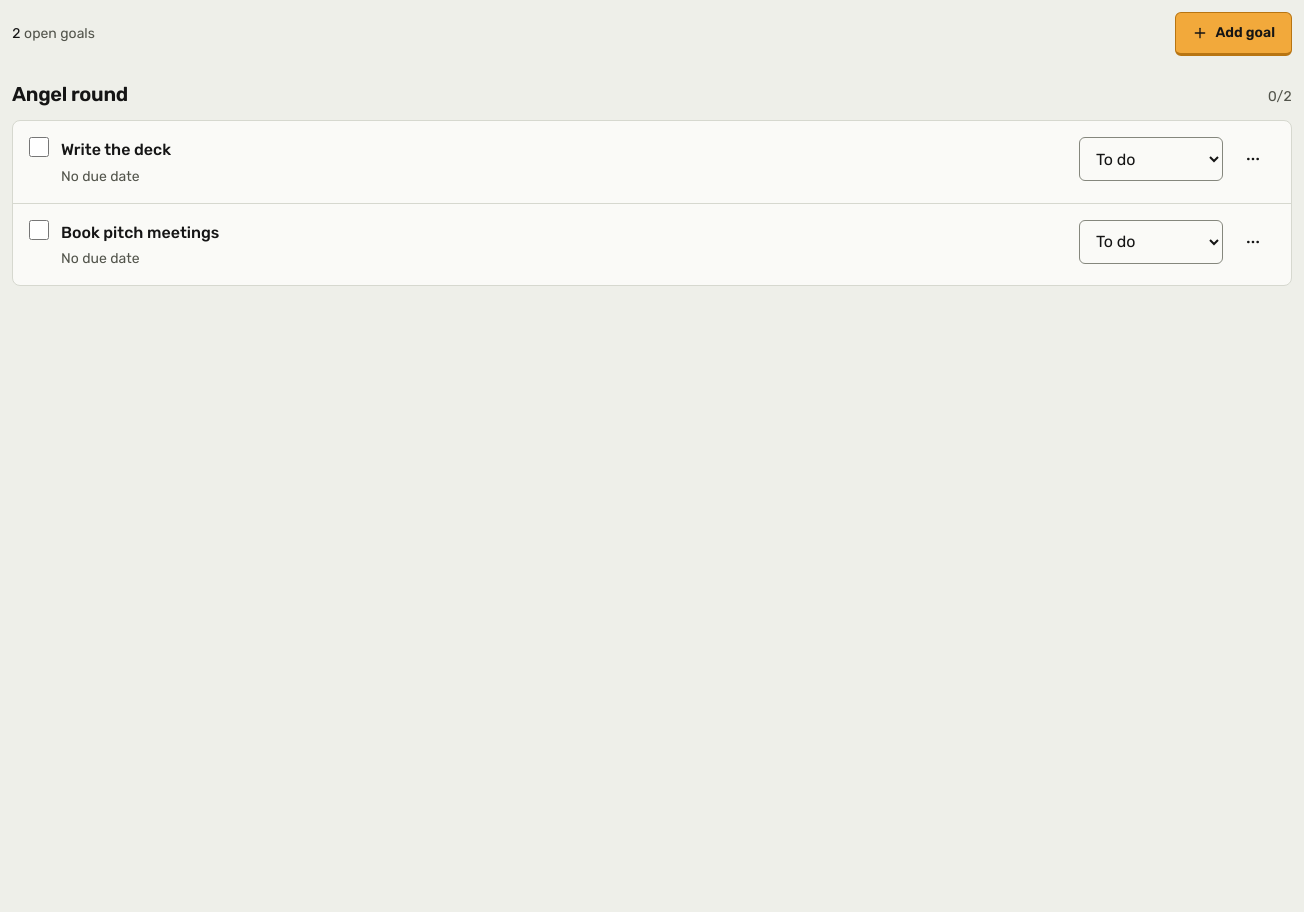
it: GoalList milestone cheer › cheers when the status select marks the last goal done
Select "Done" in the dropdown named "Status of Write the deck" in the row of "Write the deck". click: (1151, 159)
box: x1=1079 y1=137 x2=1223 y2=181
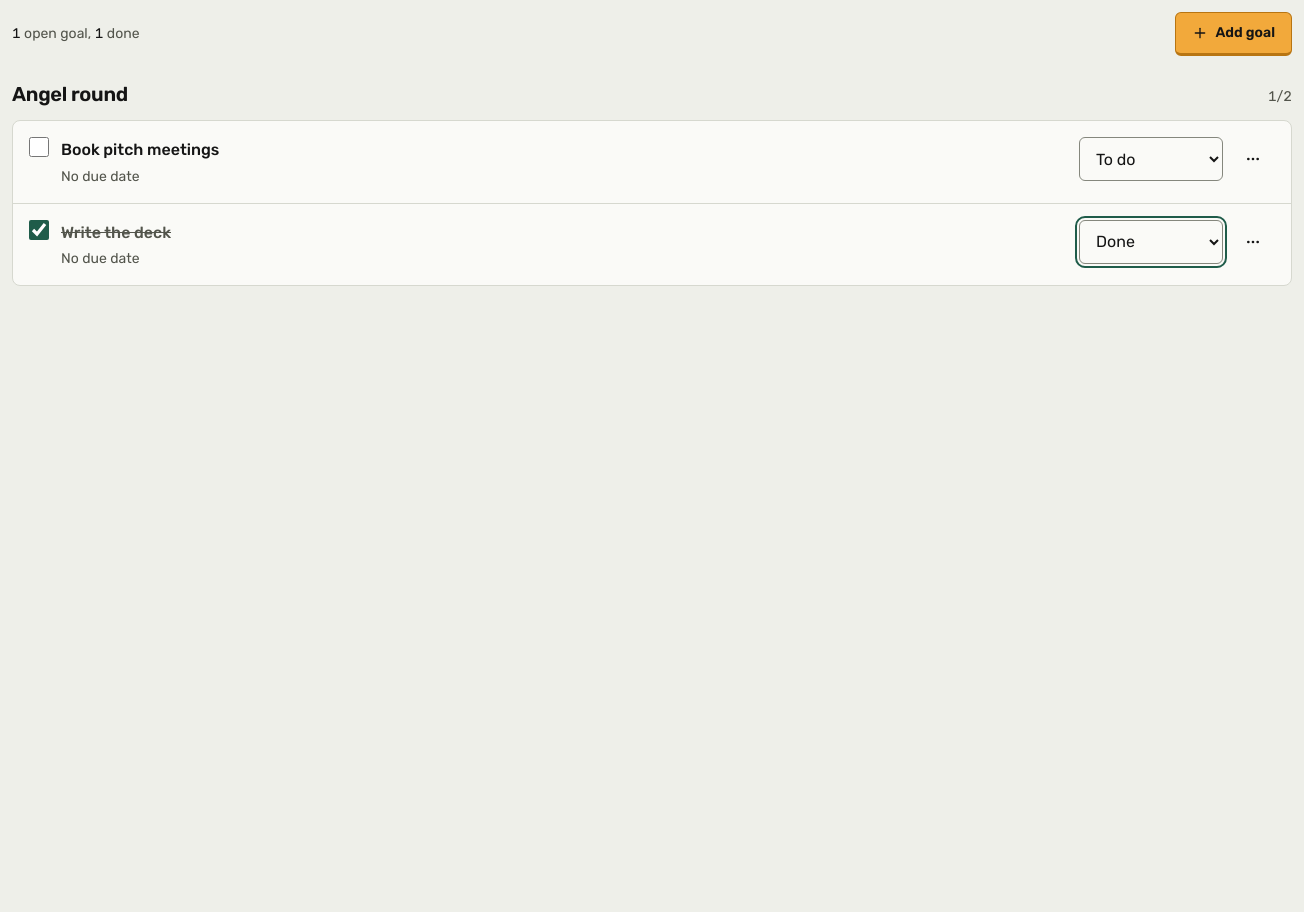
Select "In progress" in the dropdown named "Status of Book pitch meetings" in the row of "Book pitch meetings". click: (1151, 159)
box: x1=1079 y1=137 x2=1223 y2=181
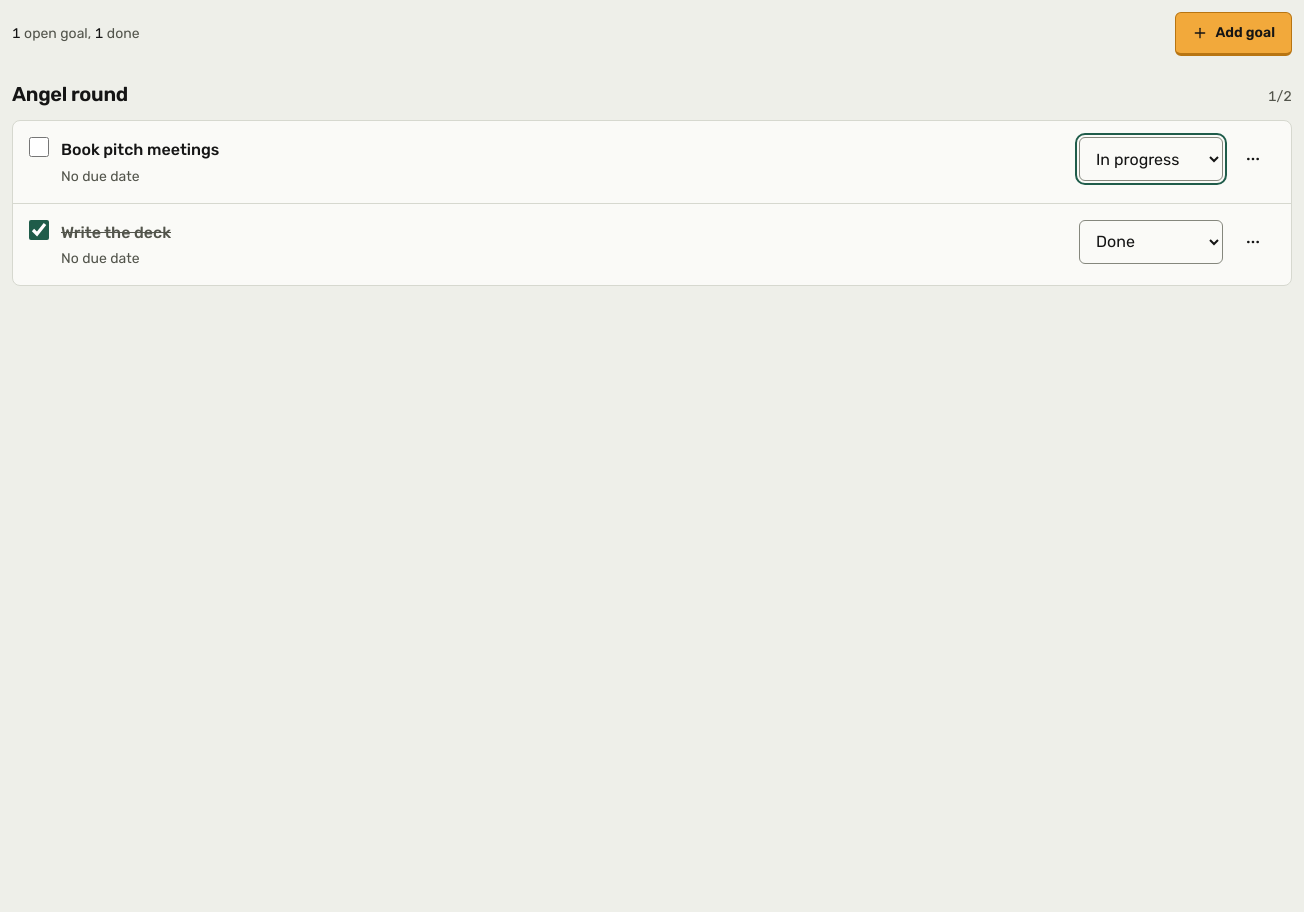
Select "Done" in the dropdown named "Status of Book pitch meetings" in the row of "Book pitch meetings". click: (1151, 159)
box: x1=1079 y1=137 x2=1223 y2=181
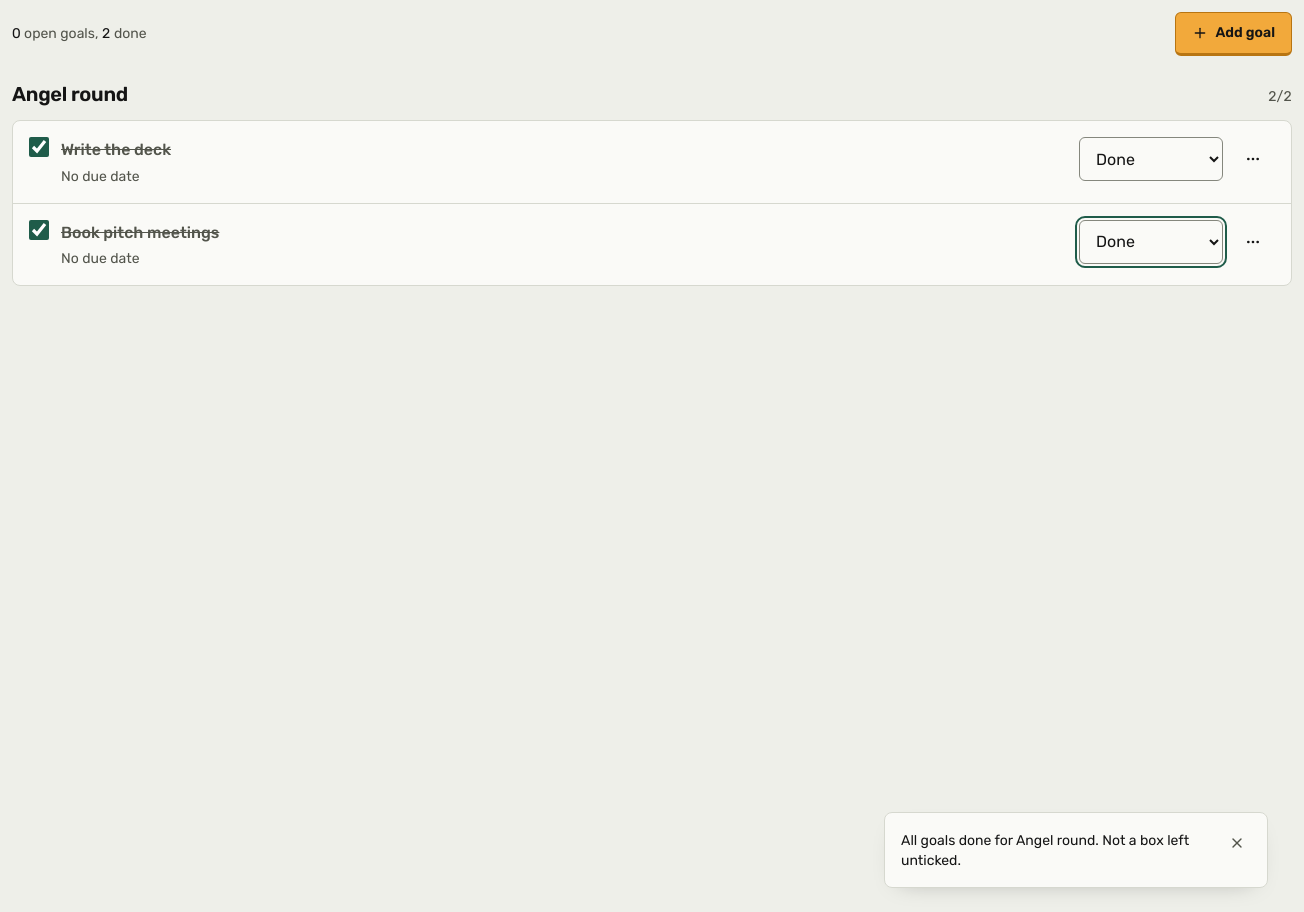
expect the text "All goals done for Angel round. Not a box left unticked." is shown: met, box x1=901 y1=831 x2=1211 y2=871
